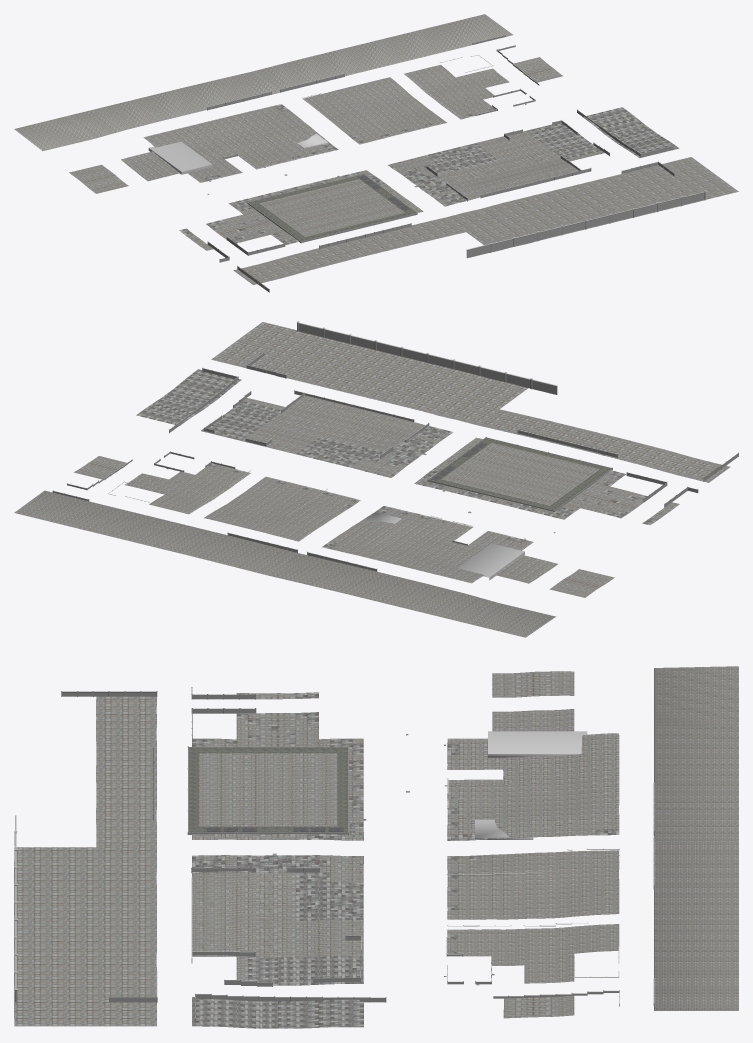
Rendered from street_sidewalks.gltf.
The picture shows the model from 3 angles, top to bottom: view 1: azimuth 30°, elevation 25°; view 2: azimuth 150°, elevation 25°; view 3: azimuth 270°, elevation 25°; orthographic projection. The views are drawn at different scales.
Visible parts, largest first — view 1: street_sidewalks; view 2: street_sidewalks; view 3: street_sidewalks.
Part boxes in pixels (x1=…): street_sidewalks: x1=14, y1=14, x2=738, y2=292; street_sidewalks: x1=14, y1=321, x2=738, y2=637; street_sidewalks: x1=14, y1=666, x2=738, y2=1028.
Bounding box in the file's own units: 151 × 3.35 × 131.
